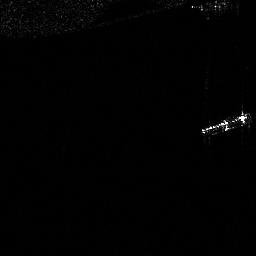ship: (201, 113, 249, 137)
